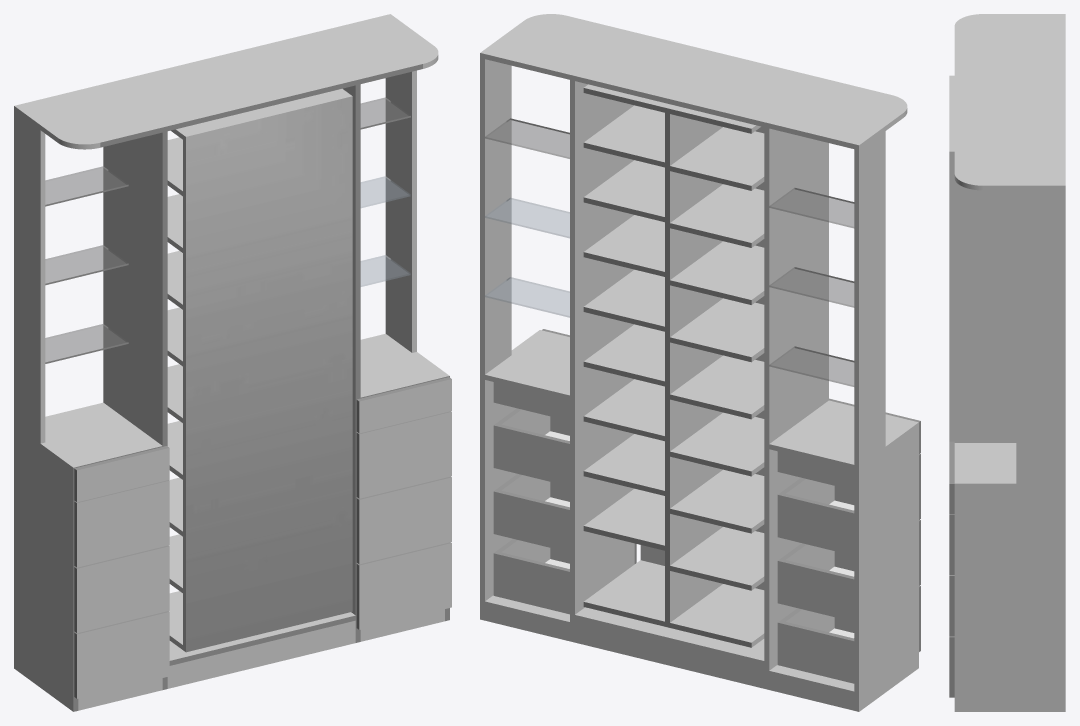
File: zapatero.glb
3 renders of one model, left to right at view 1: azimuth 30°, elevation 25°; view 2: azimuth 150°, elevation 25°; view 3: azimuth 270°, elevation 25°, orthographic. The views are drawn at different scales.
Visible parts, largest first — view 1: root; view 2: root; view 3: root.
Boxes of the visible parts, x1,y1,x2,y2 form: root: [14, 14, 451, 711]; root: [480, 14, 920, 711]; root: [949, 14, 1065, 711].
Size of the model in its own units: 1.4 by 2 by 0.4.
Materials: 6 (1 with a texture image).
